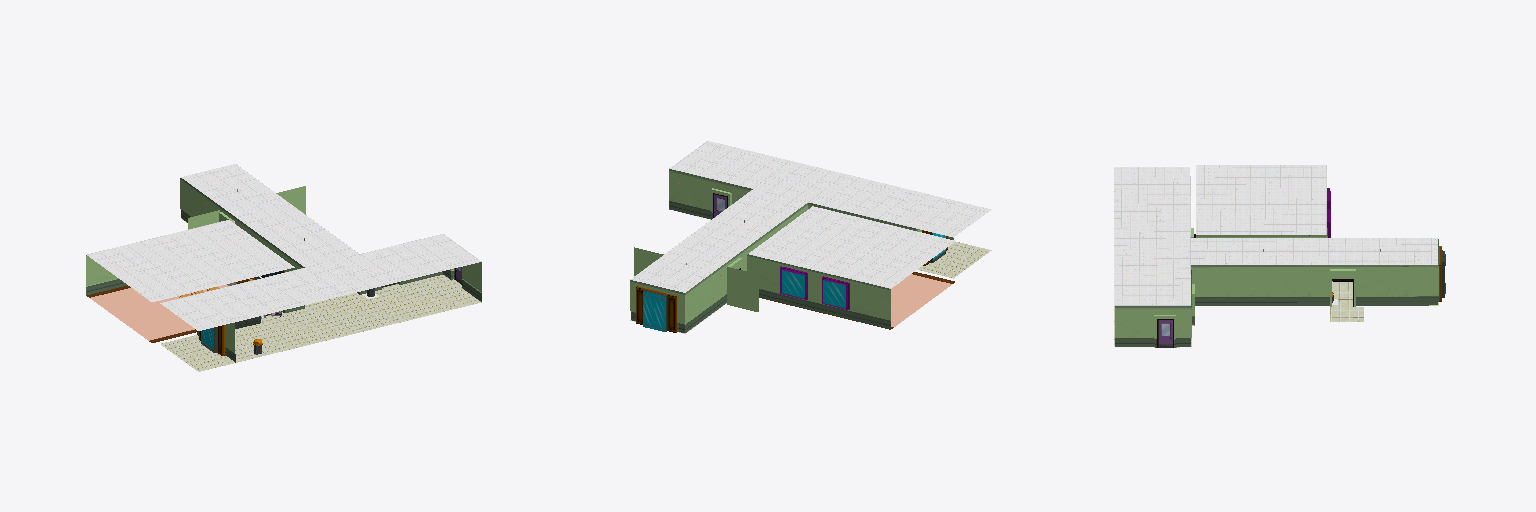
3 views of the same model, side by side, from view 1: azimuth 30°, elevation 25°; view 2: azimuth 150°, elevation 25°; view 3: azimuth 270°, elevation 25° (orthographic).
Visible parts, largest first — view 1: SchoolHallway; view 2: SchoolHallway; view 3: SchoolHallway.
Part boxes in pixels (left/top/right/bottom): SchoolHallway: left=86, top=164, right=481, bottom=371; SchoolHallway: left=630, top=141, right=991, bottom=333; SchoolHallway: left=1114, top=165, right=1445, bottom=347.
Size of the model in its own units: 26.29 by 3.85 by 25.87.
Materials: 34 (28 with a texture image).